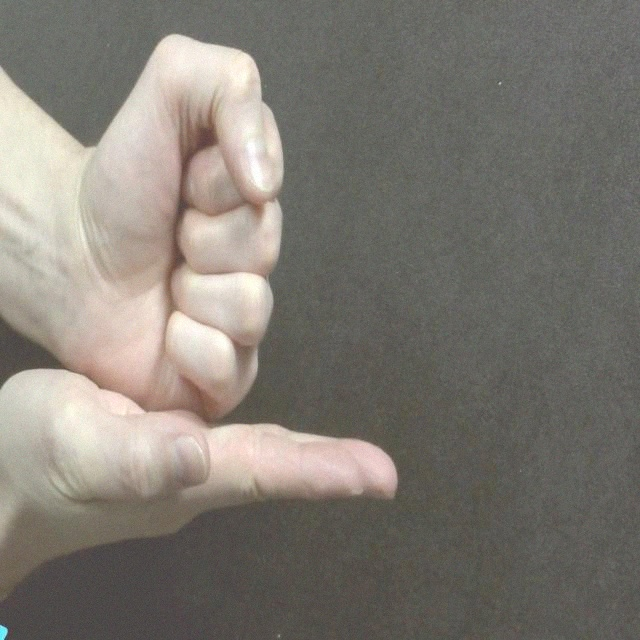Rock: (57, 33, 284, 420)
